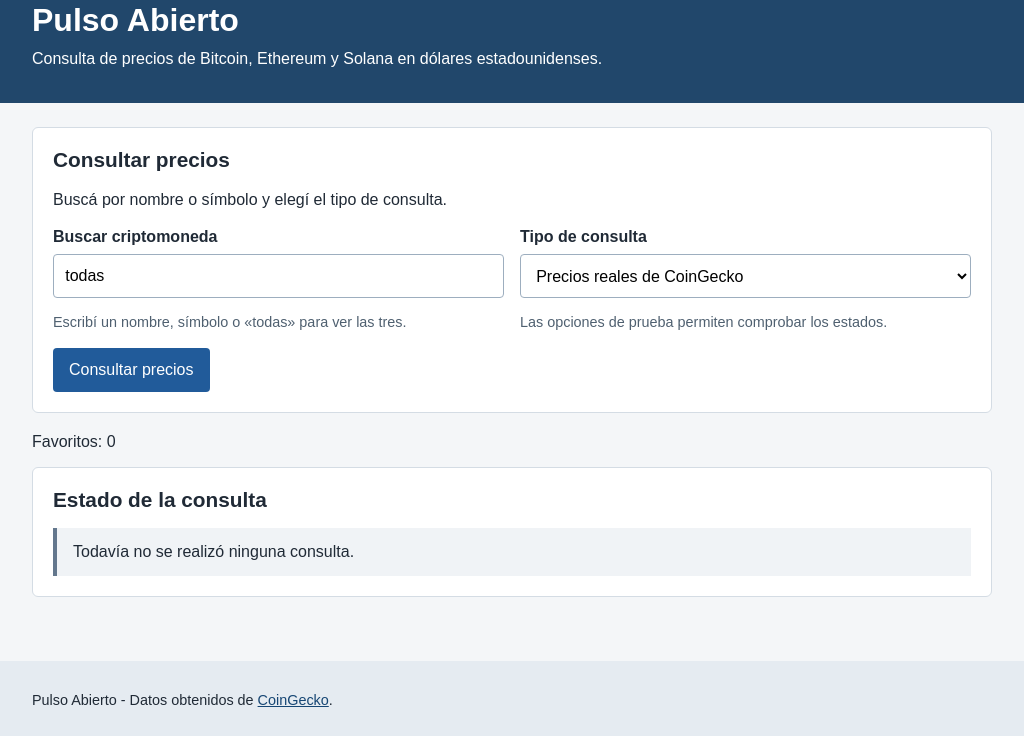
Test: consulta de precios › informa un error y recupera la consulta al reintentar
Click the button "Consultar precios". click: (131,370)
box: [53,348,210,392]
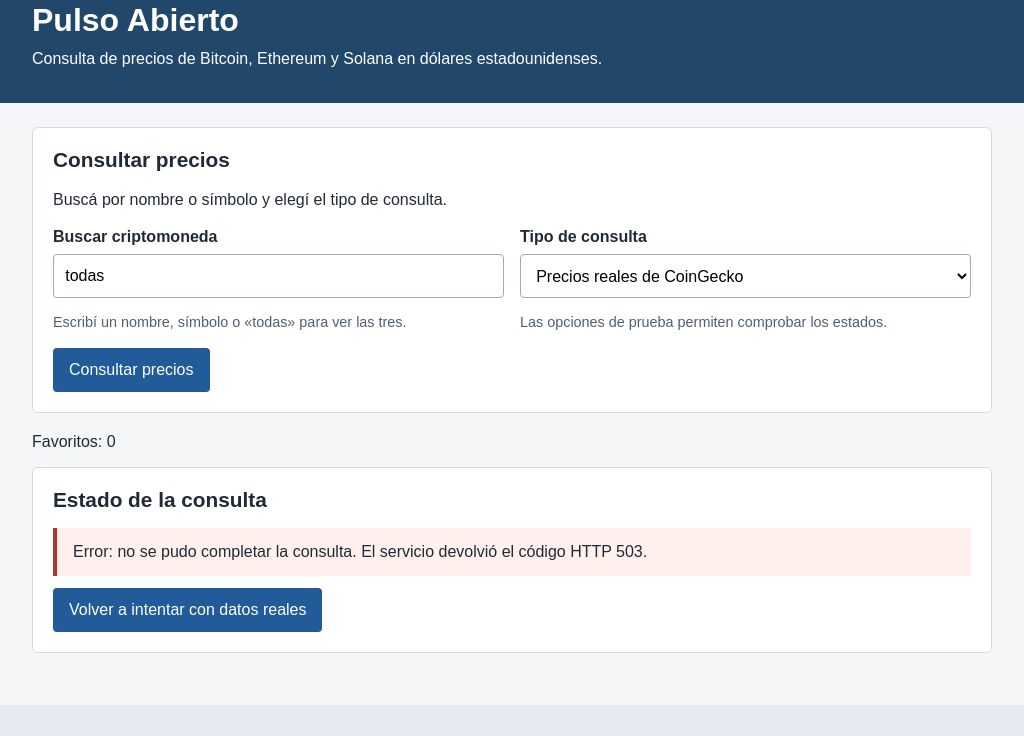
Result: the text "Error: no se pudo completar la consulta" is shown at [73,543,647,560]
Click the button "Volver a intentar con datos reales". click: (188,610)
box: [53,588,322,632]
(page scrolled)
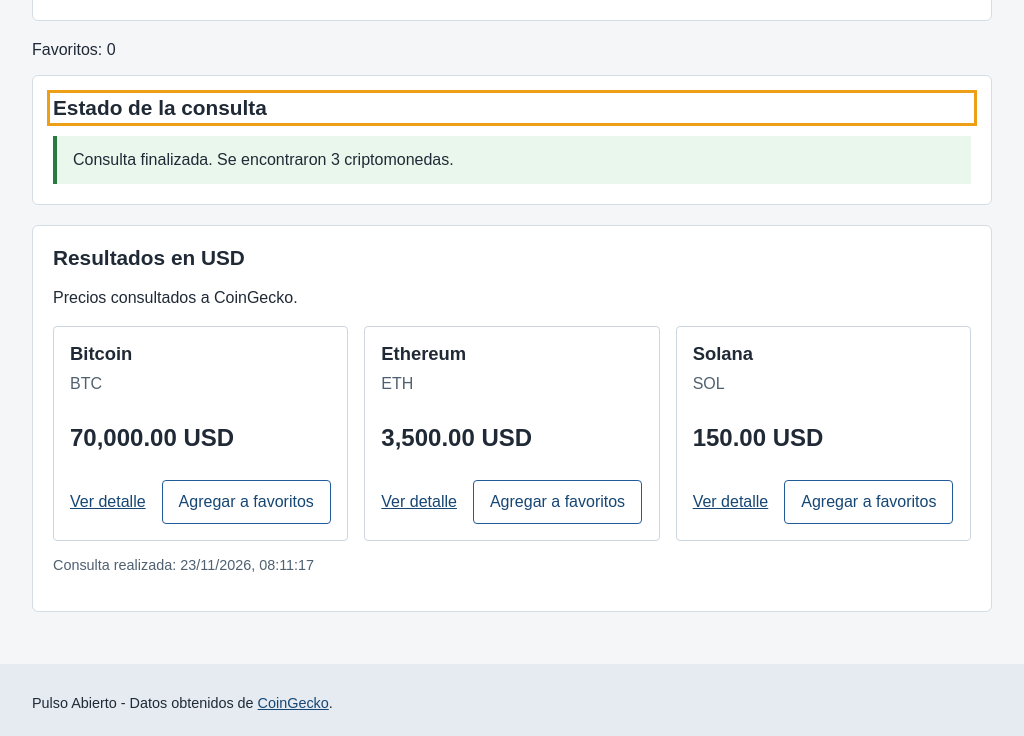
Result: the heading "Bitcoin" is shown at [70,343,132,364]
